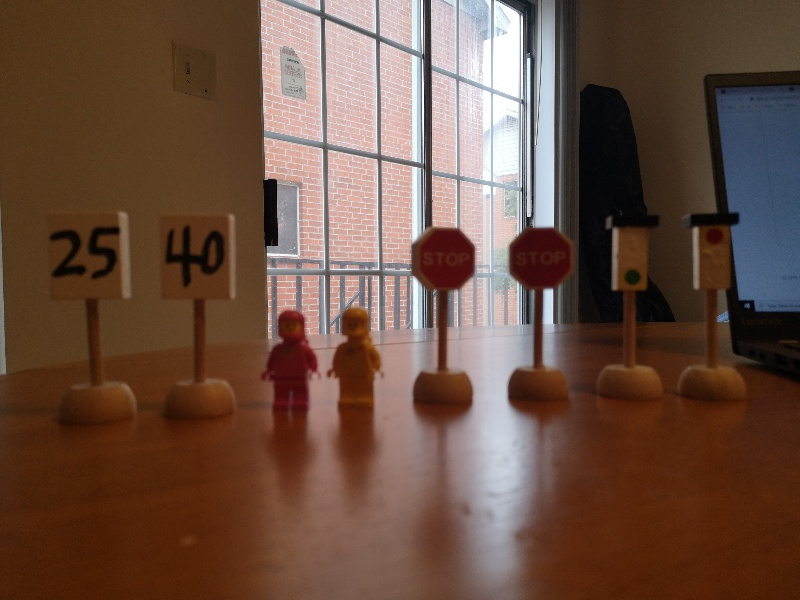Green Traffic Light: (603, 214, 660, 294)
Person: (262, 309, 322, 416), (324, 309, 386, 411)
Red Traffic Light: (682, 211, 741, 293)
Speed Limit 25: (45, 211, 132, 302)
Speed Limit 40: (157, 214, 239, 301)
Stop Sign: (507, 225, 576, 292), (410, 227, 476, 293)
